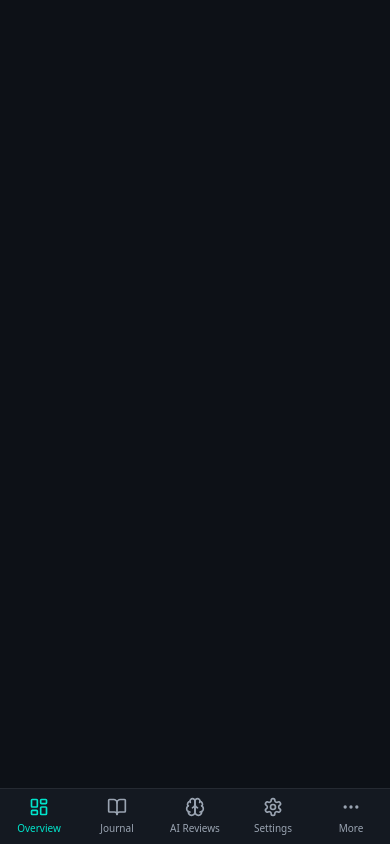
Test: phone navigation › reveals them behind More
Click the button "More" at x=351, y=816, box 312,789 -> 389,843
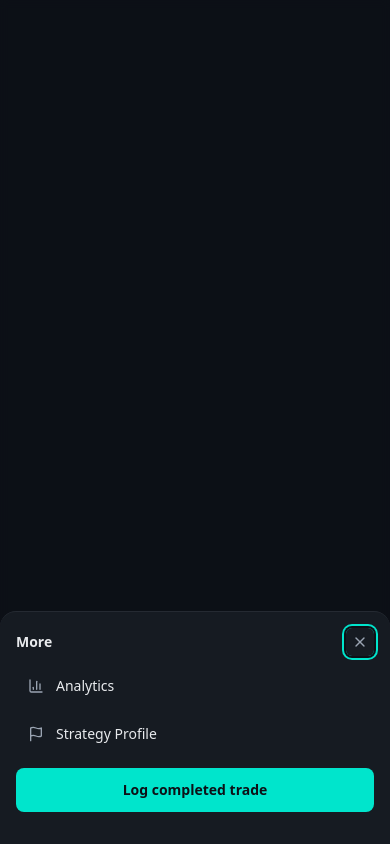
Expected: the link "Analytics" is shown, 28,676 -> 114,695
Expected: the link "Strategy Profile" is shown, 28,724 -> 157,743
